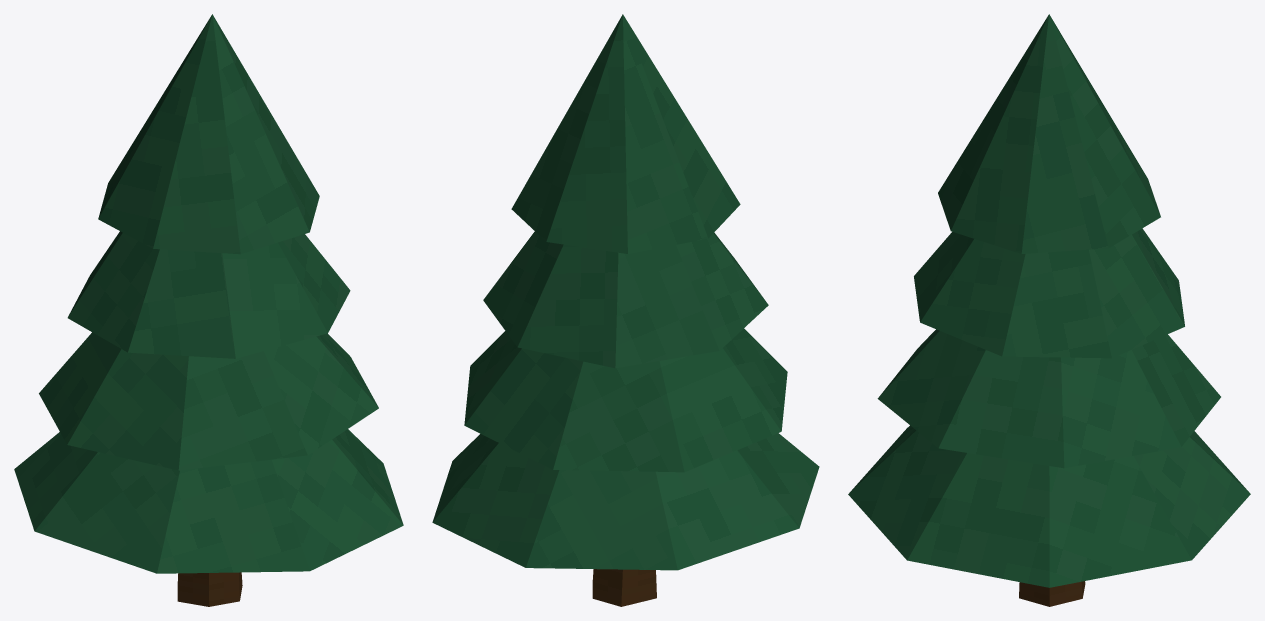
The model's file is tree_pine.obj.
3 views of the same model, side by side, from view 1: azimuth 30°, elevation 25°; view 2: azimuth 150°, elevation 25°; view 3: azimuth 270°, elevation 25° (orthographic).
Visible parts, largest first — view 1: cone, trunk; view 2: cone, trunk; view 3: cone, trunk.
Part boxes in pixels (box(x1,y1,x2,y2)): cone: box(14, 14, 403, 573); trunk: box(177, 572, 242, 606); cone: box(432, 14, 819, 570); trunk: box(592, 569, 656, 606); cone: box(848, 14, 1250, 587); trunk: box(1019, 581, 1085, 606).
Size of the model in its own units: 0.473 by 0.75 by 0.4735.
Materials: 2 (2 with a texture image).
